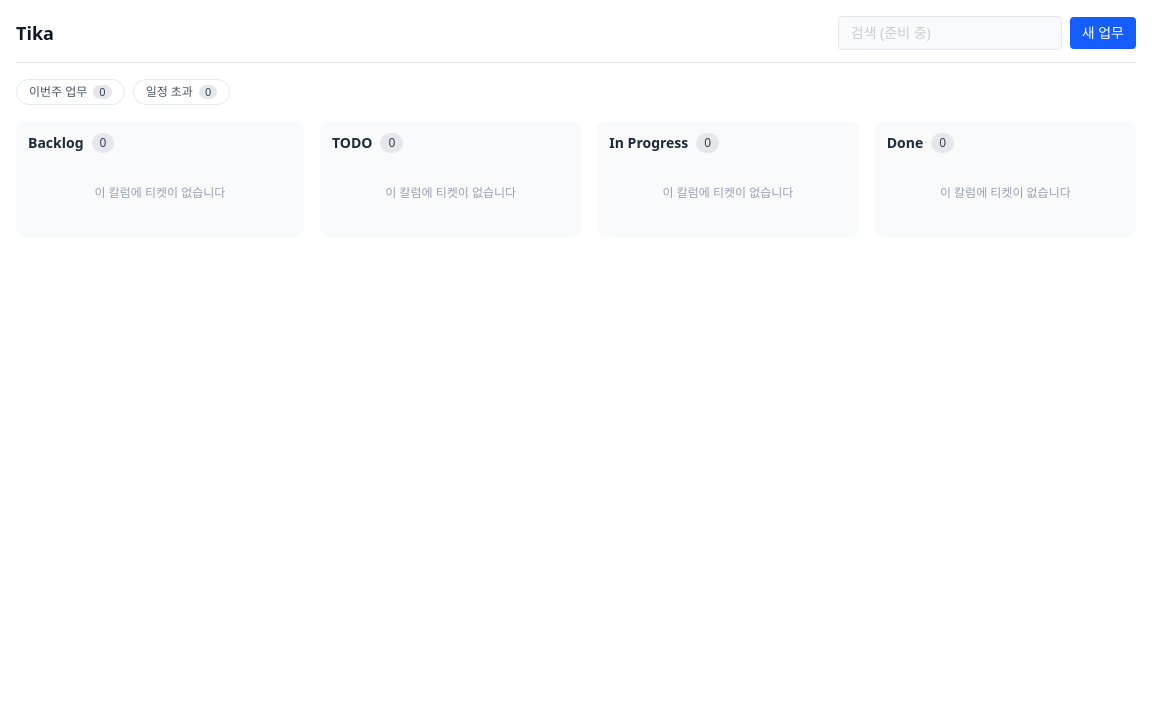
Scenario: BoardContainer › API 에러가 나면 화면에 에러 메시지를 표시한다
Click the button "새 업무". click: [1103, 33]
box: [1070, 17, 1136, 49]
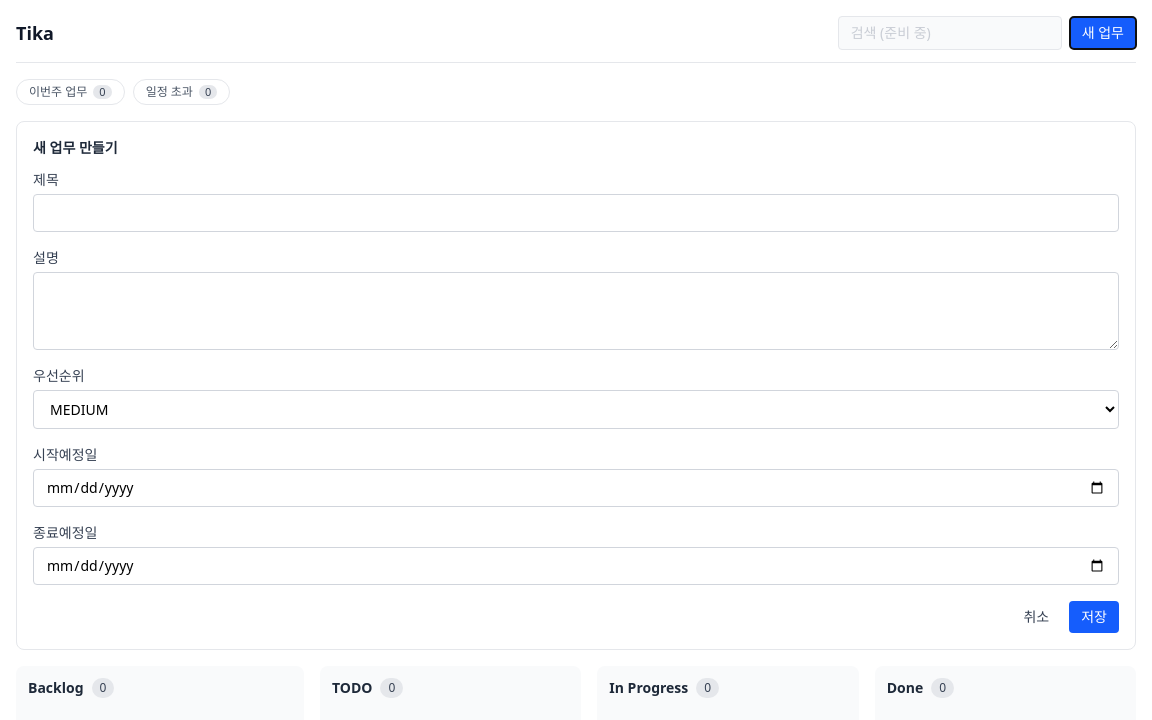
Type "아무 제목" into the field labelled "제목". click: [576, 213]
box: [33, 194, 1119, 232]
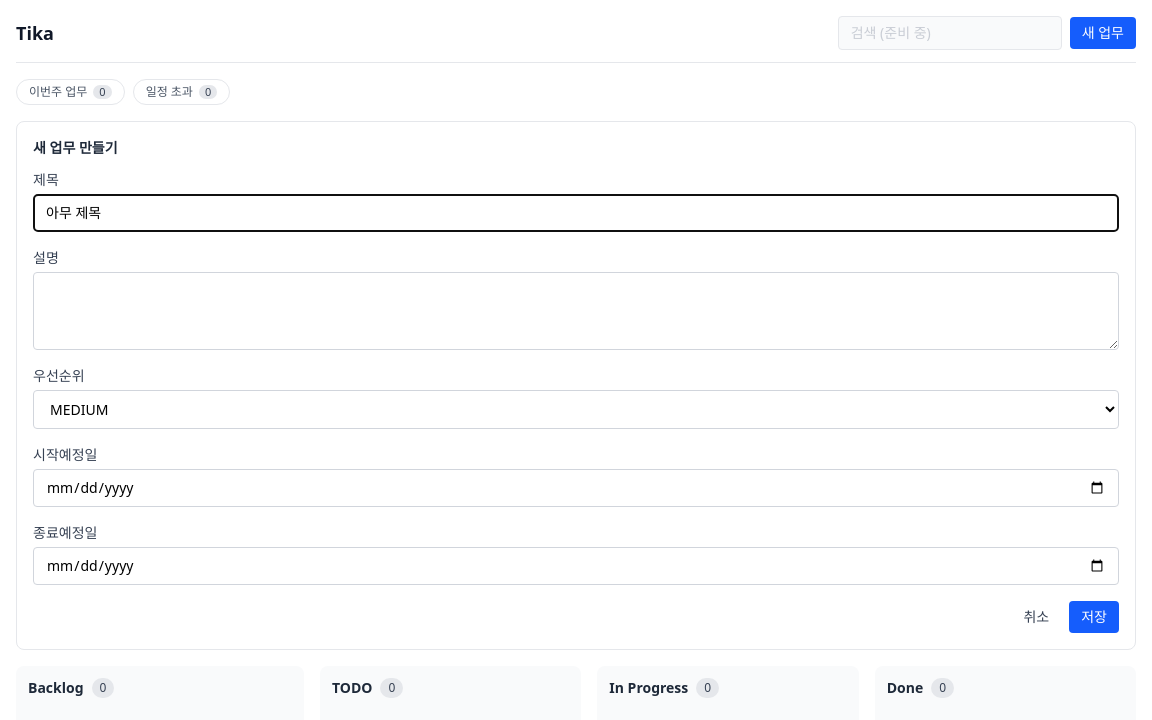
Click the button "저장". click: [1094, 617]
box: [1069, 601, 1119, 633]
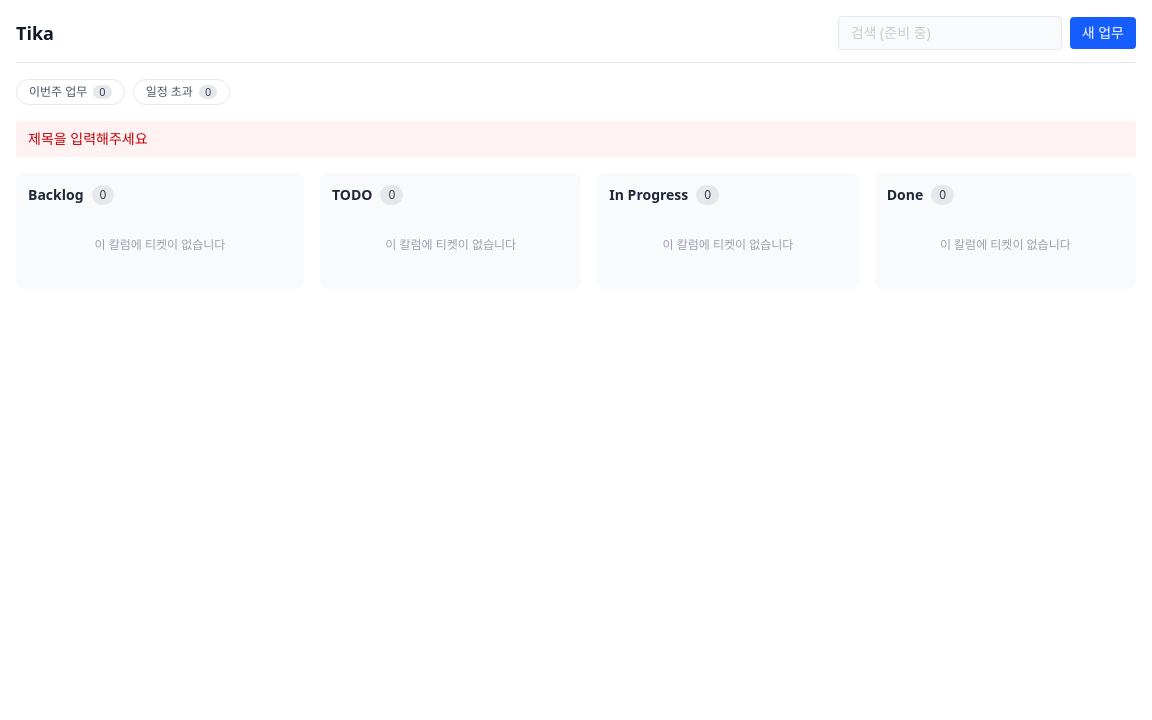
Check: the message reads "제목을 입력해주세요", box [28, 129, 148, 148]
